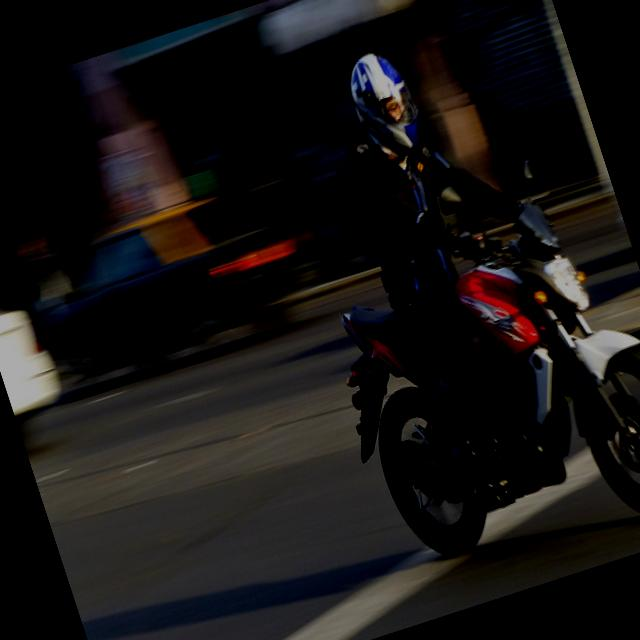Vehicle: (285, 135, 640, 598), (11, 170, 326, 392), (0, 275, 67, 421)
